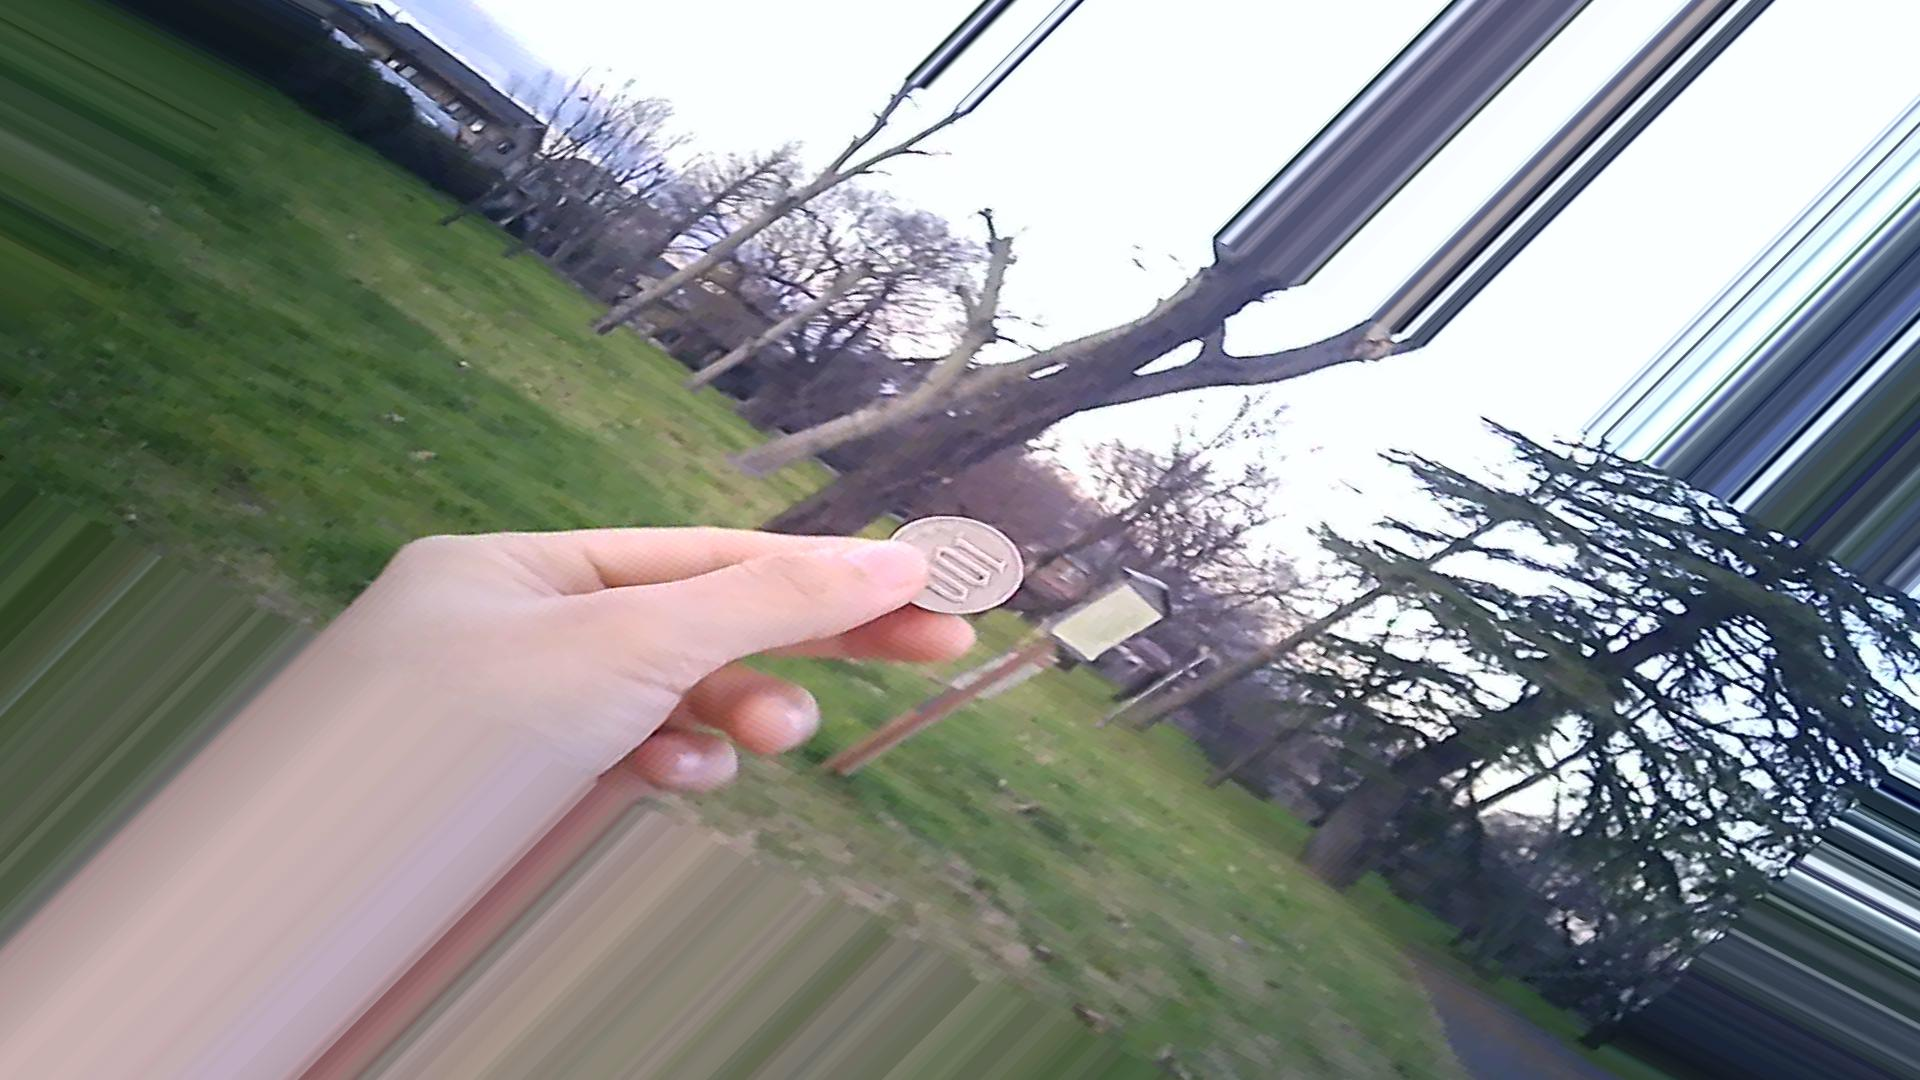100 Yen: (880, 512, 1021, 615)
